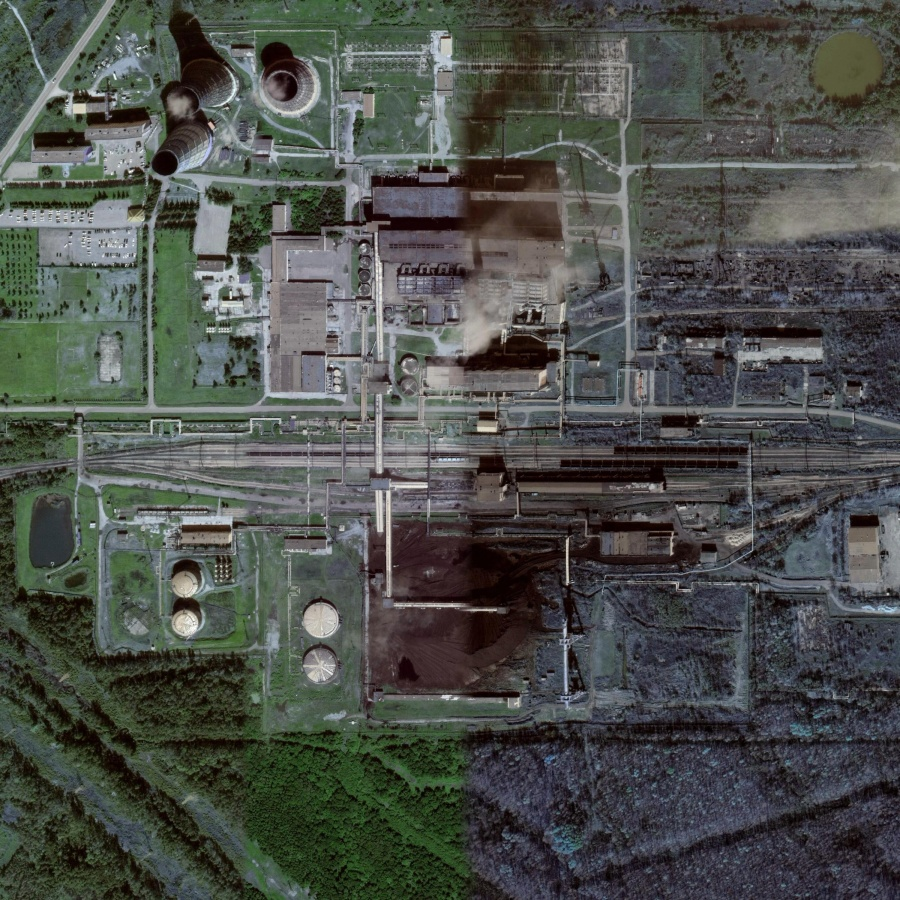PowerPlant: (130, 18, 619, 714)
